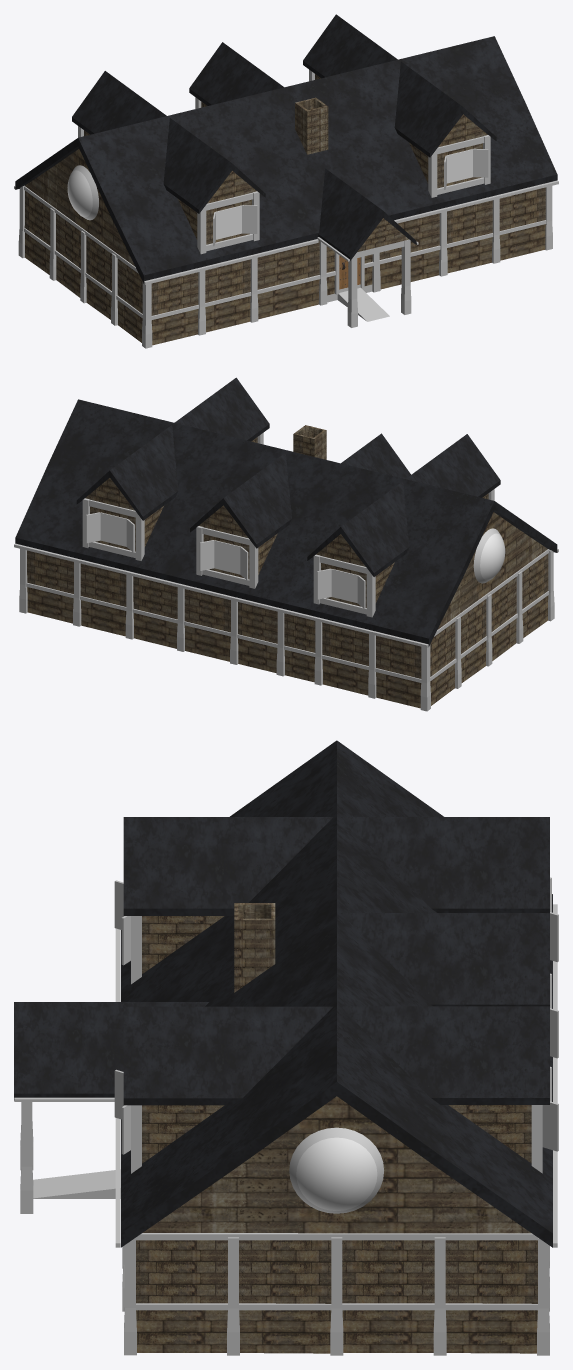
File: Iglesia.fbx
3 views of the same model, one above another, from view 1: azimuth 30°, elevation 25°; view 2: azimuth 150°, elevation 25°; view 3: azimuth 270°, elevation 25° (orthographic). The views are drawn at different scales.
Parts seen in each view (by area): view 1: IGLESIA; view 2: IGLESIA; view 3: IGLESIA.
Part boxes in pixels (box(x1,y1,x2,y2)): IGLESIA: box(14, 14, 558, 348); IGLESIA: box(14, 377, 558, 711); IGLESIA: box(14, 740, 558, 1355).
Bounding box in the file's own units: 2571 × 950 × 1688.
